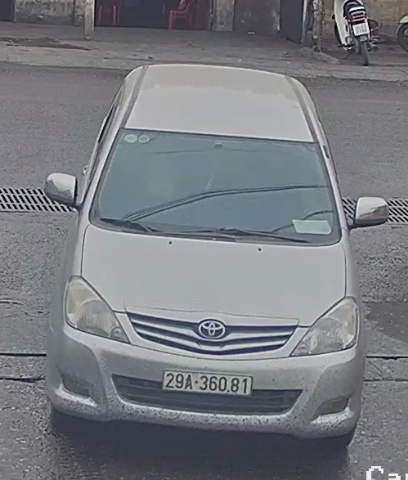vehicle plate: (157, 365, 265, 397)
